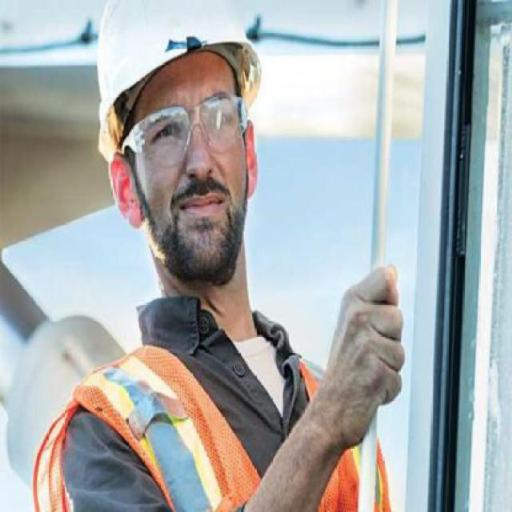glass: (118, 91, 254, 180)
hardhat: (79, 5, 287, 135)
person: (22, 0, 422, 510)
vest: (25, 335, 400, 509)
